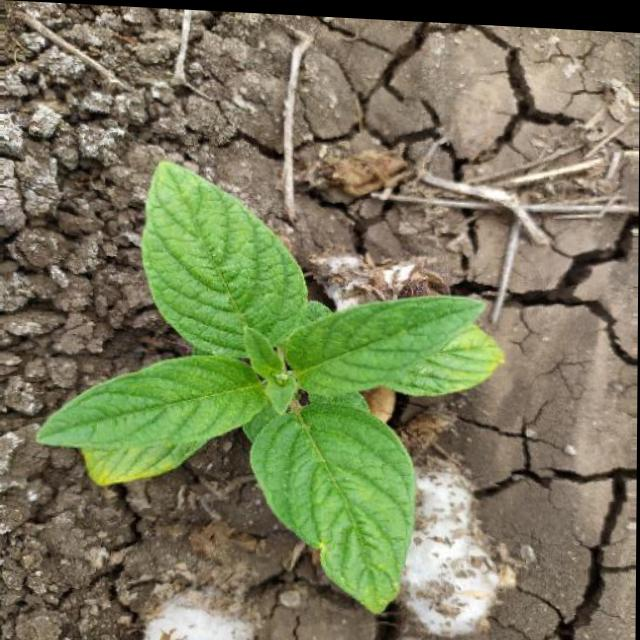crop: (35, 152, 524, 625)
